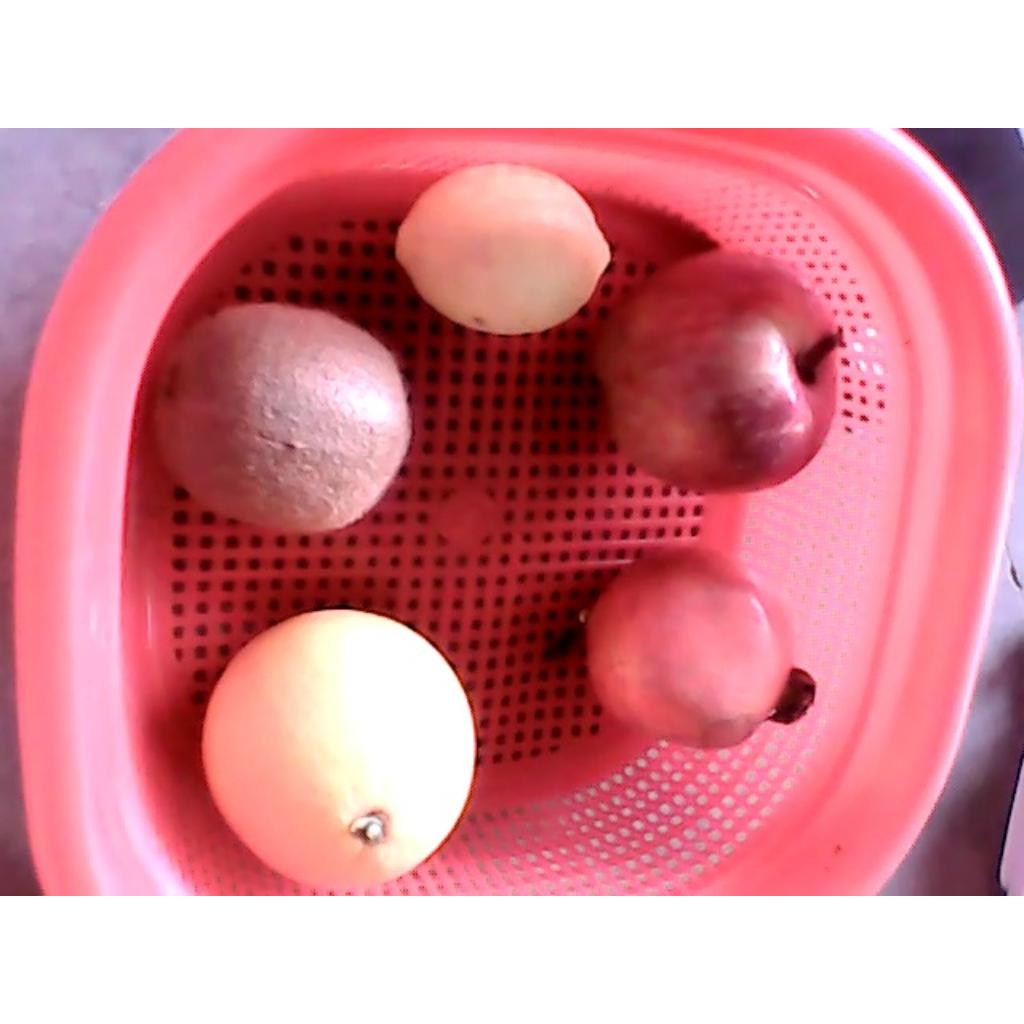apple: (590, 250, 842, 499)
kiwi: (141, 302, 415, 536)
lemon: (395, 164, 610, 334)
orange: (201, 608, 476, 890)
pomegranate: (584, 544, 816, 750)
